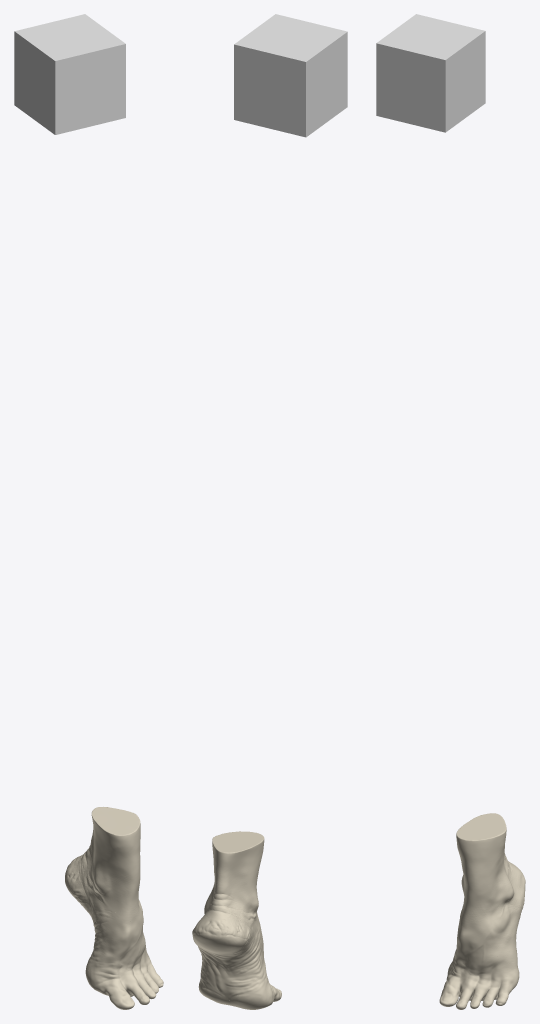
File: human_body_heavy.glb
3 views of the same model, side by side, from view 1: azimuth 30°, elevation 25°; view 2: azimuth 150°, elevation 25°; view 3: azimuth 330°, elevation 25° (orthographic). The views are drawn at different scales.
Visible parts, largest first — view 1: Cube, Object_2, Object_3; view 2: Cube, Object_2, Object_3; view 3: Cube, Object_2, Object_3.
Part boxes in pixels (bbox=[...]): Cube: bbox=[14, 14, 125, 134]; Object_2: bbox=[65, 811, 163, 1009]; Object_3: bbox=[65, 807, 162, 1009]; Cube: bbox=[234, 14, 347, 137]; Object_2: bbox=[192, 833, 281, 1009]; Object_3: bbox=[192, 831, 280, 1009]; Cube: bbox=[376, 14, 485, 132]; Object_2: bbox=[439, 816, 525, 1009]; Object_3: bbox=[440, 813, 525, 1009].
Size of the model in its own units: 3.39 by 26.1 by 3.03.
